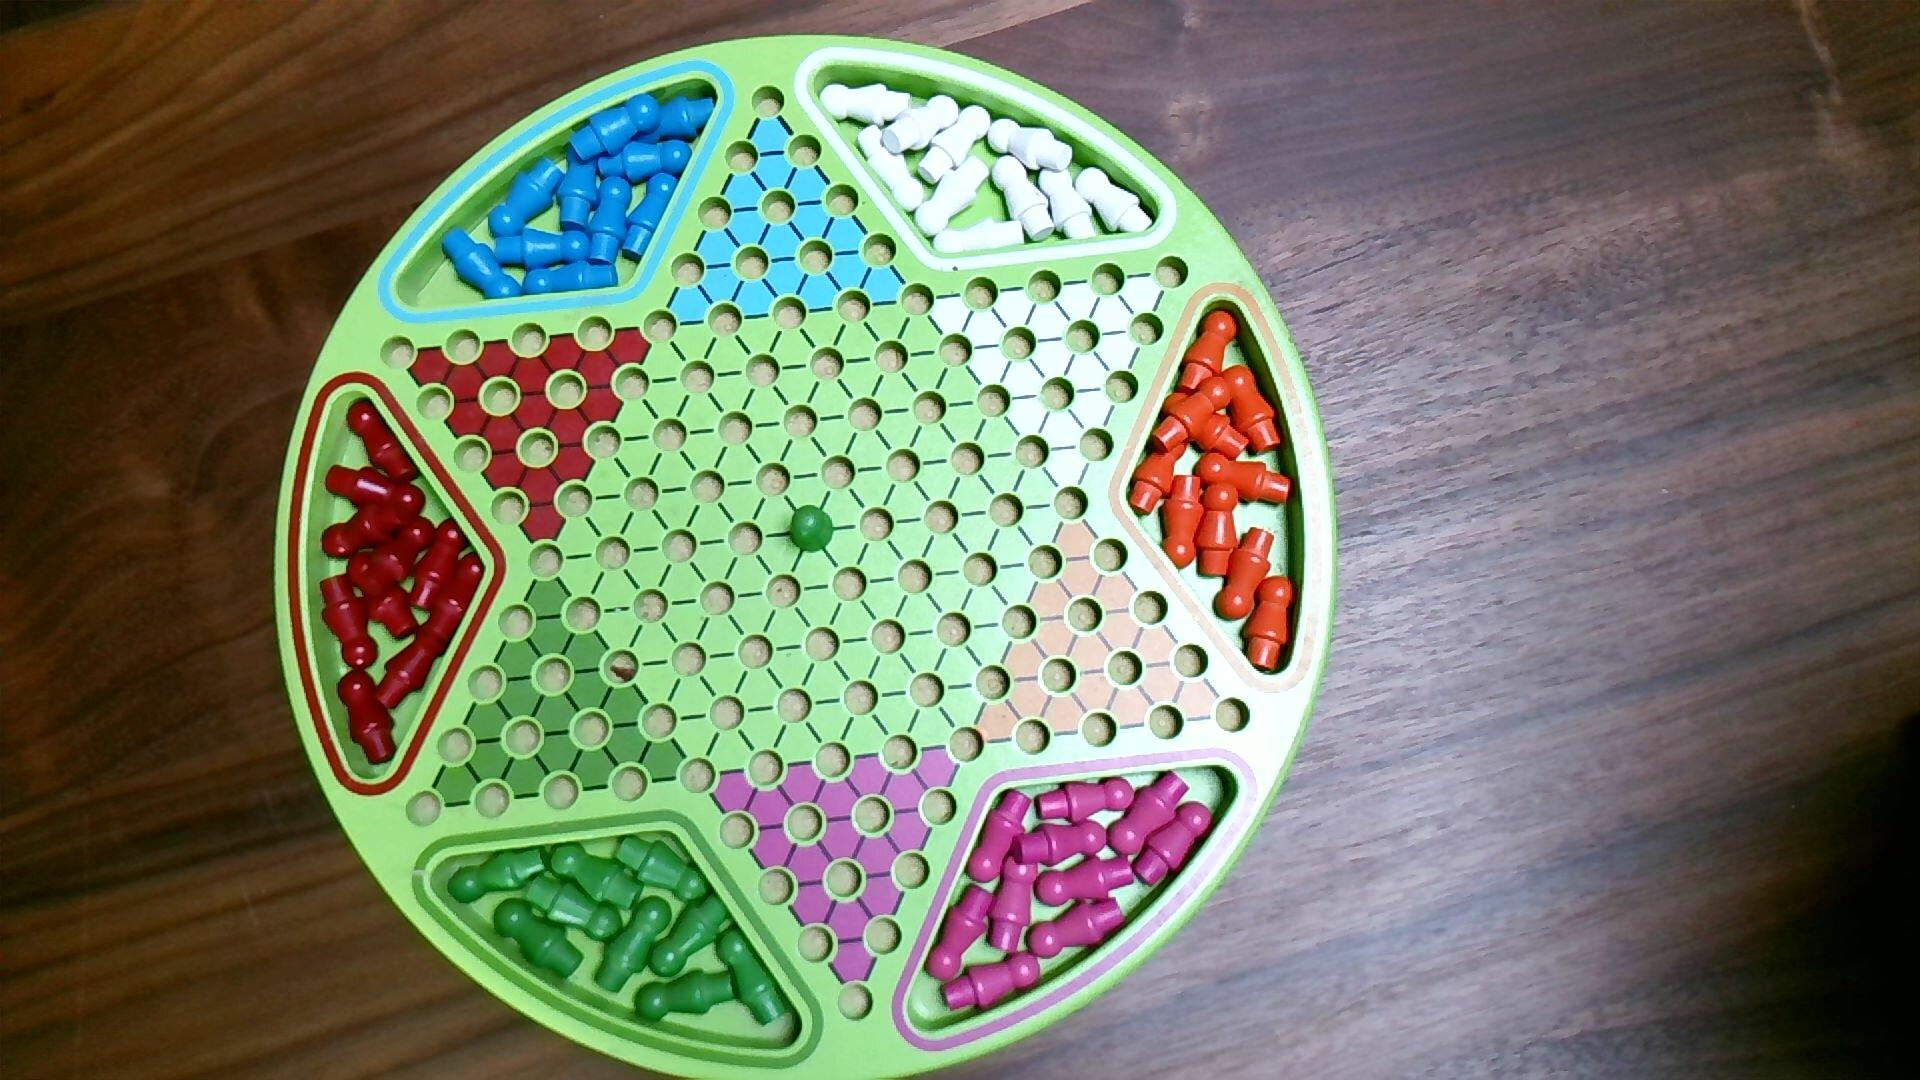G: (787, 501, 837, 556)
